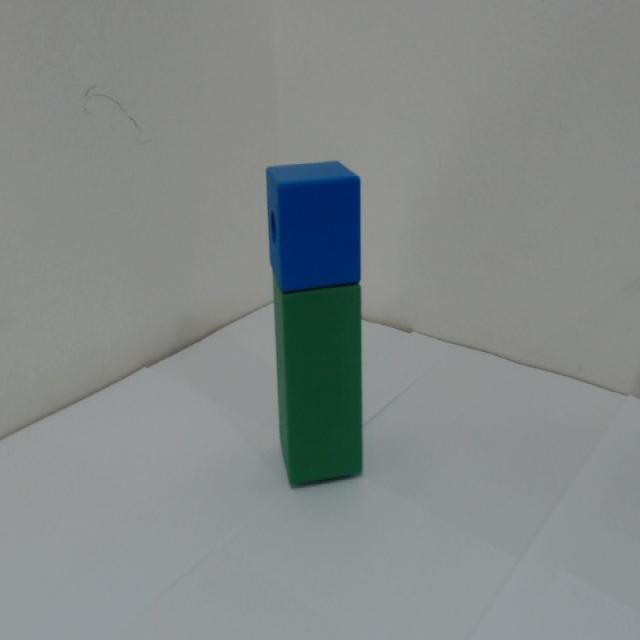cube: (244, 167, 394, 289)
